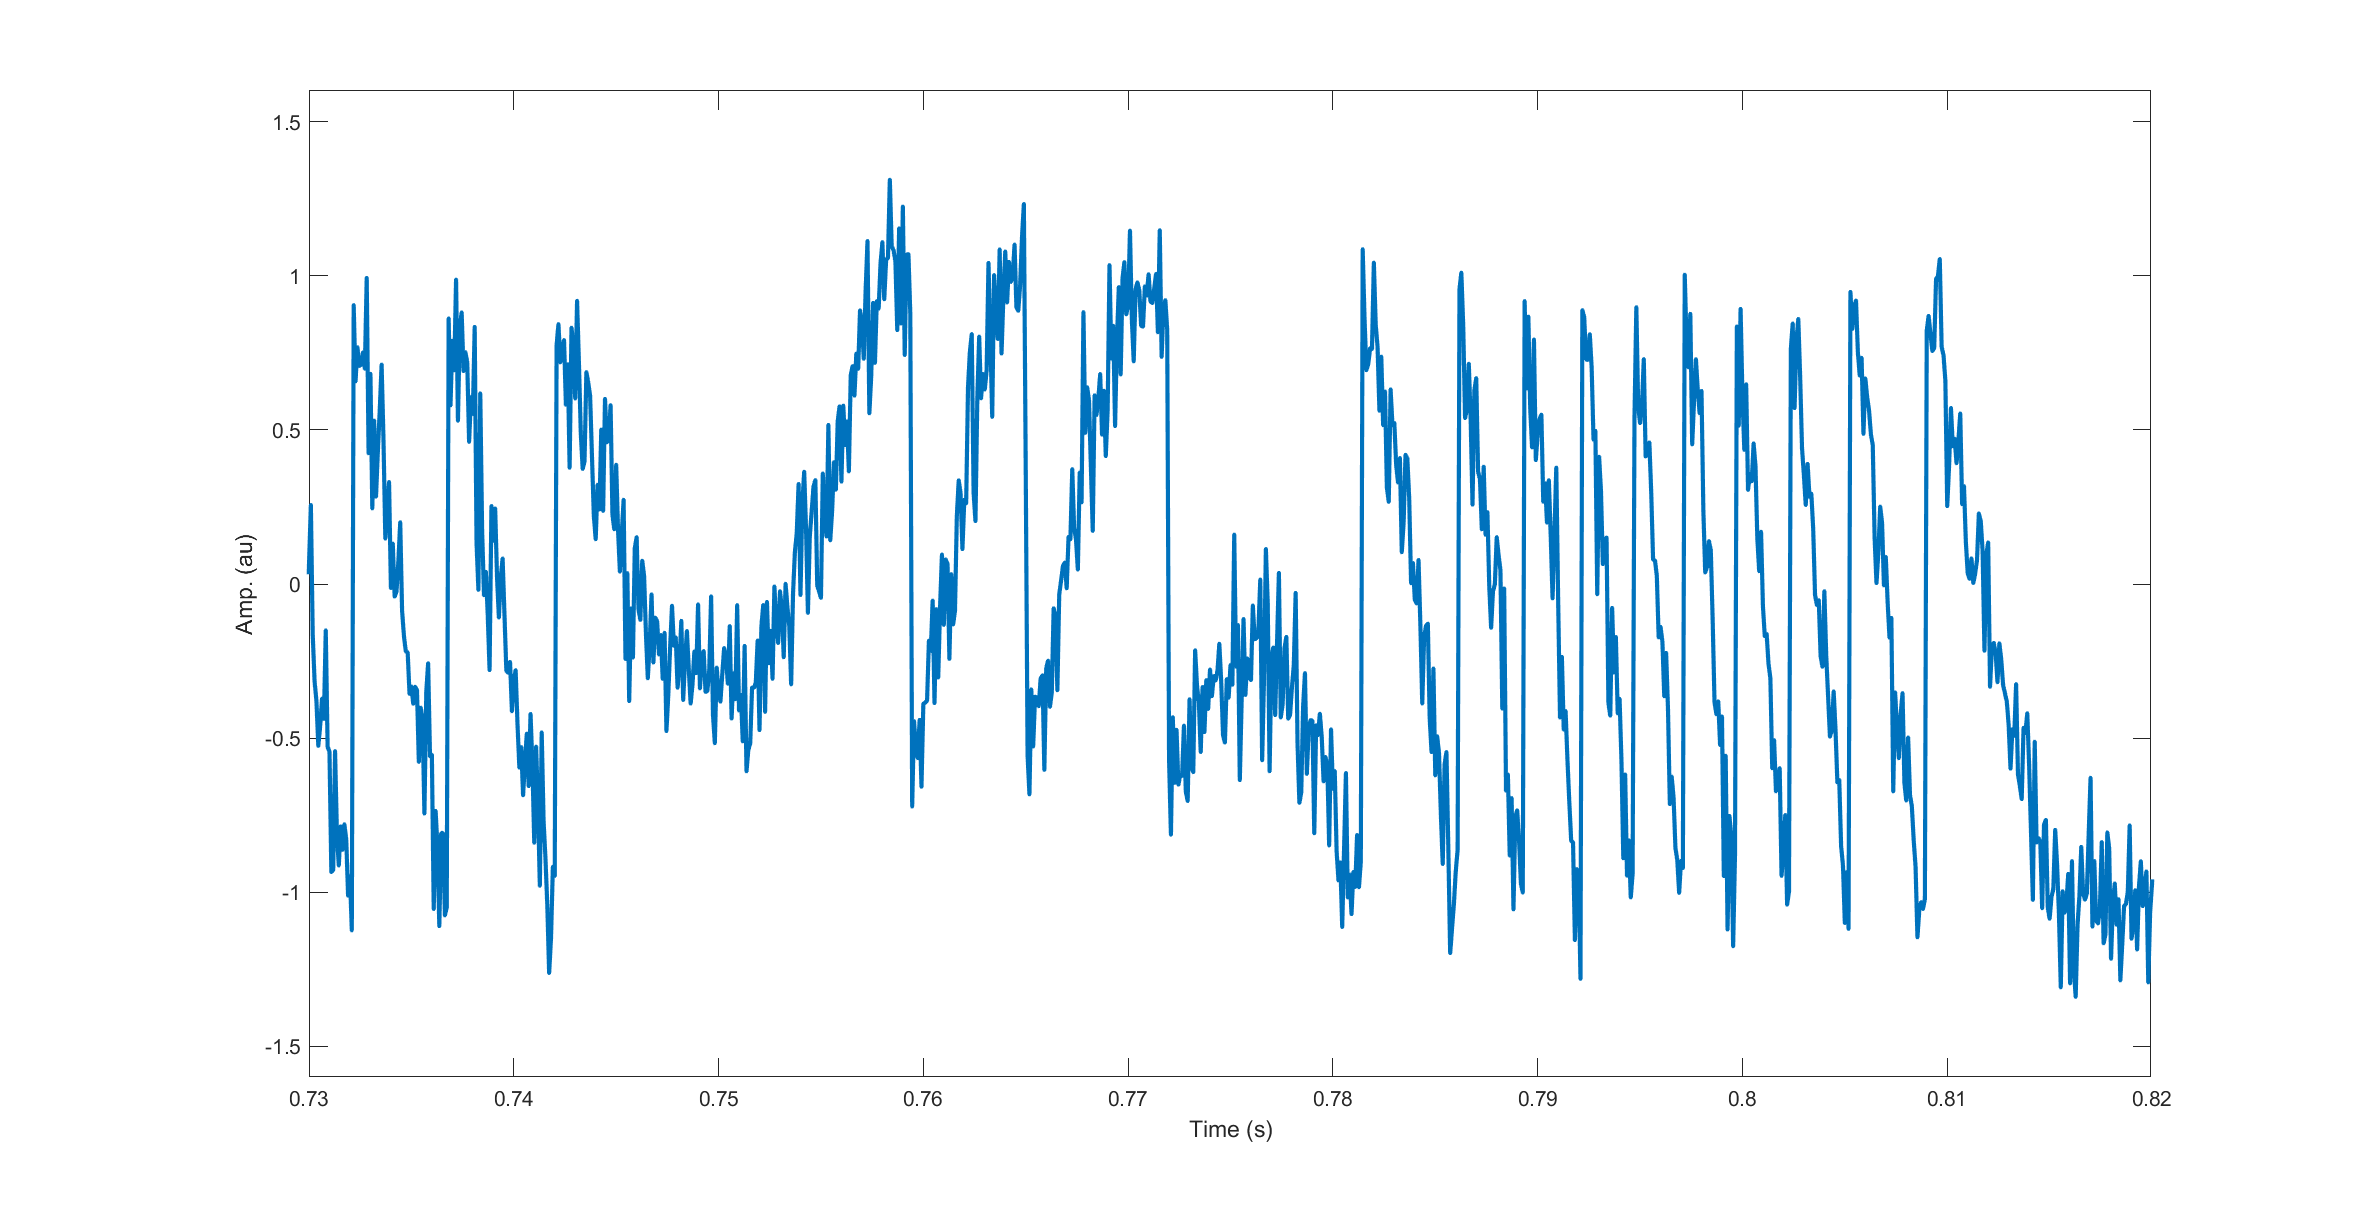negative_fringe: (1909, 244, 2031, 935), (539, 299, 640, 982), (1343, 235, 1435, 897), (444, 258, 532, 898), (1444, 262, 1517, 951), (350, 270, 424, 895), (1843, 282, 1903, 924), (1724, 296, 1776, 951), (1569, 312, 1619, 972), (1514, 299, 1566, 892), (1782, 309, 1835, 900), (1673, 259, 1714, 895), (1626, 309, 1665, 895)
positive_fringe: (1045, 205, 1181, 841), (806, 167, 923, 776), (931, 184, 1035, 779)
